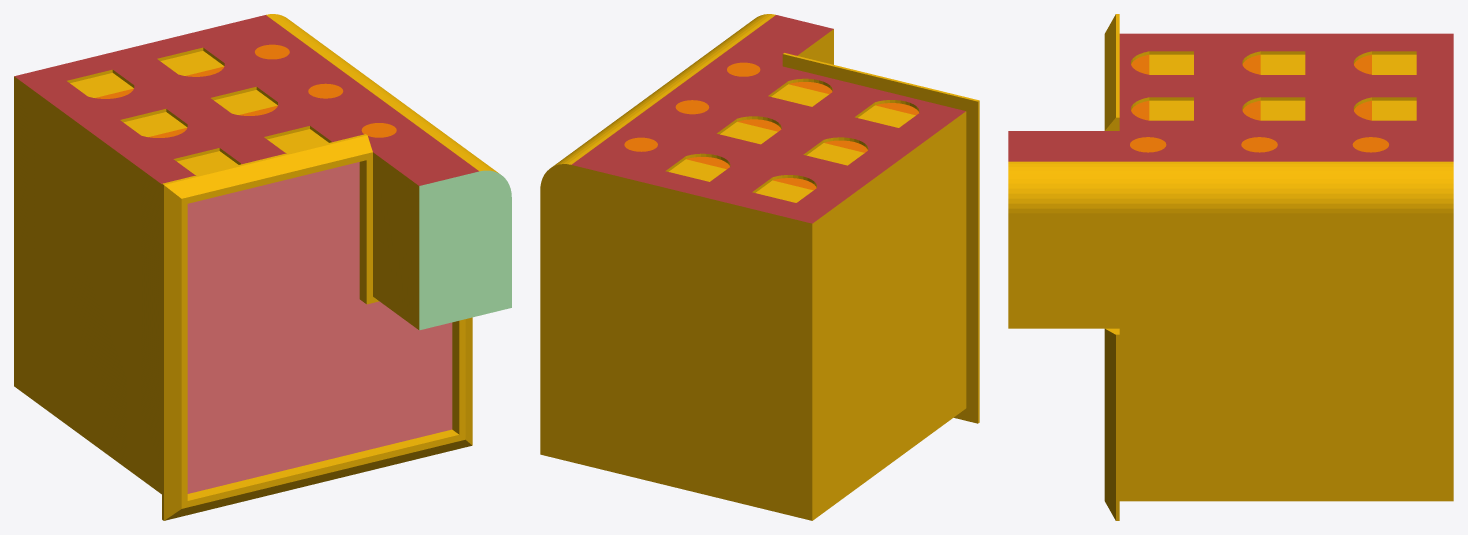
The model's file is MiddleApartment.fbx.
3 views of the same model, side by side, from view 1: azimuth 30°, elevation 25°; view 2: azimuth 150°, elevation 25°; view 3: azimuth 270°, elevation 25° (orthographic). The views are drawn at different scales.
Parts seen in each view (by area): view 1: 物件_10, 物件_21, 物件_34, 物件_17, 物件_9, 物件_16, 物件_47, 物件_46, 物件_48, 物件_8, 物件_2, 物件_49 (+5 smaller); view 2: 物件_35, 物件_21, 物件_34, 物件_43, 物件_33, 物件_32, 物件_16, 物件_38, 物件_31; view 3: 物件_23, 物件_34, 物件_4, 物件_5, 物件_24, 物件_25, 物件_26, 物件_27, 物件_28, 物件_29, 物件_30, 物件_49 (+5 smaller).
Part boxes in pixels (<box>): 物件_10: <box>187,162,452,493</box>; 物件_21: <box>14,76,161,494</box>; 物件_34: <box>14,15,478,185</box>; 物件_17: <box>419,170,511,330</box>; 物件_9: <box>181,152,465,508</box>; 物件_16: <box>373,152,419,329</box>; 物件_47: <box>164,185,181,520</box>; 物件_46: <box>164,135,372,198</box>; 物件_48: <box>164,439,471,520</box>; 物件_8: <box>187,429,458,500</box>; 物件_2: <box>359,160,366,303</box>; 物件_49: <box>465,317,472,445</box>; 物件_35: <box>540,164,812,520</box>; 物件_21: <box>812,111,966,520</box>; 物件_34: <box>571,15,965,223</box>; 物件_43: <box>782,54,977,423</box>; 物件_33: <box>567,14,775,164</box>; 物件_32: <box>564,14,771,163</box>; 物件_16: <box>797,29,833,64</box>; 物件_38: <box>978,101,979,423</box>; 物件_31: <box>560,14,767,164</box>; 物件_23: <box>1008,213,1453,501</box>; 物件_34: <box>1008,33,1453,161</box>; 物件_4: <box>1008,188,1453,193</box>; 物件_5: <box>1008,183,1453,188</box>; 物件_24: <box>1008,208,1453,213</box>; 物件_25: <box>1008,203,1453,208</box>; 物件_26: <box>1008,198,1453,203</box>; 物件_27: <box>1008,193,1453,198</box>; 物件_28: <box>1008,179,1453,183</box>; 物件_29: <box>1008,174,1453,178</box>; 物件_30: <box>1008,170,1453,174</box>; 物件_49: <box>1104,329,1115,520</box>.
Bounding box in the file's own units: 5.21 × 5.42 × 6.25.
